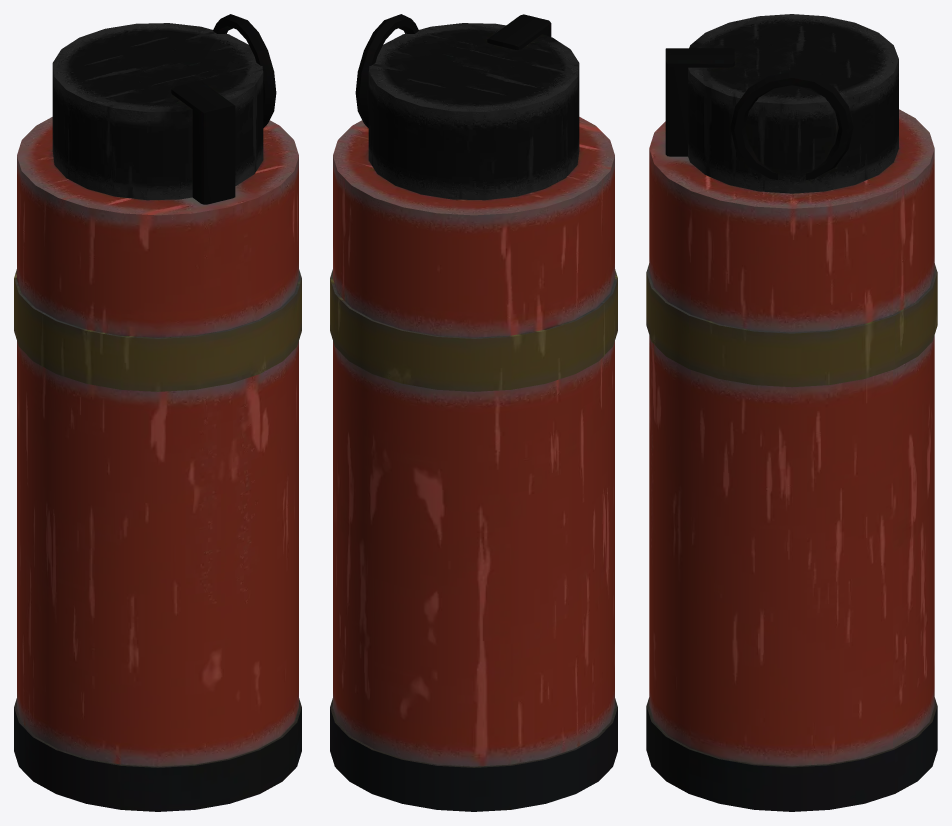
Rendered from incendiary.glb.
3 renders of one model, left to right at view 1: azimuth 30°, elevation 25°; view 2: azimuth 150°, elevation 25°; view 3: azimuth 270°, elevation 25°, orthographic.
Parts seen in each view (by area): view 1: body_metal, body_receiver; view 2: body_metal, body_receiver; view 3: body_metal, body_receiver.
Boxes of the visible parts, x1=… form: body_metal: x1=14, y1=14, x2=301, y2=811; body_receiver: x1=52, y1=23, x2=263, y2=200; body_metal: x1=330, y1=14, x2=617, y2=811; body_receiver: x1=368, y1=23, x2=579, y2=200; body_metal: x1=646, y1=48, x2=937, y2=811; body_receiver: x1=688, y1=14, x2=898, y2=193.
Size of the model in its own units: 0.0591 by 0.1615 by 0.0591.
2 materials, 2 textured.
